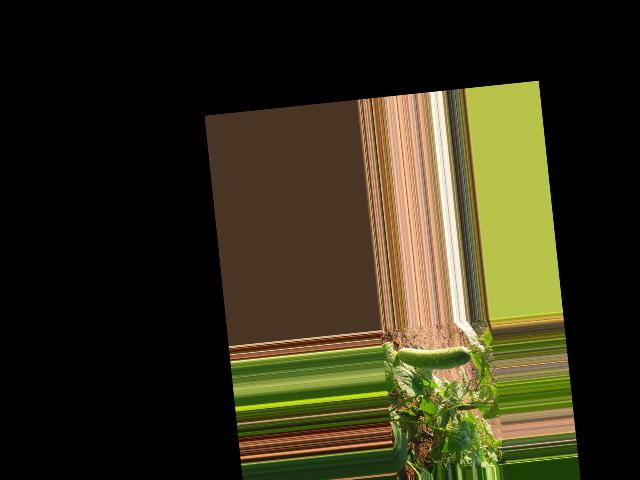cucumber: (396, 341, 471, 373)
